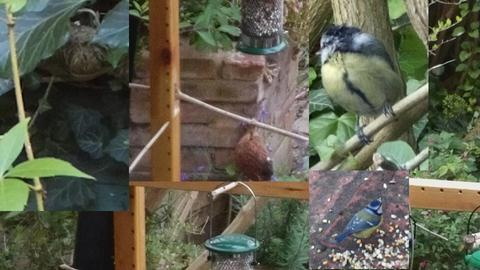blue tit: (314, 25, 404, 146), (334, 196, 384, 243)
